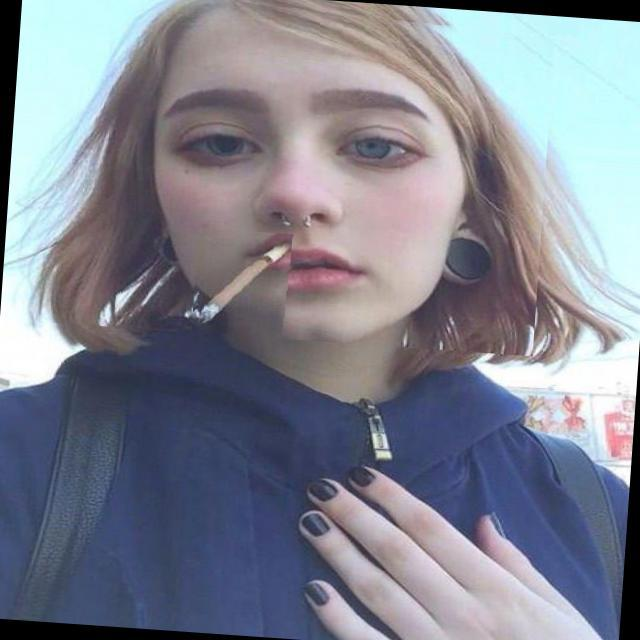cigarette: (190, 228, 293, 352)
